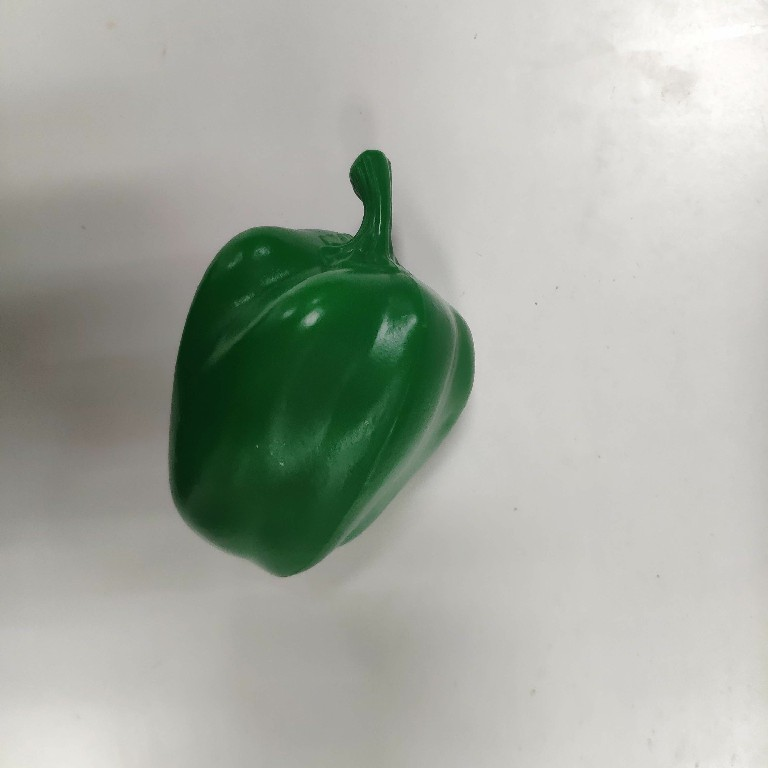fruit_pepper: (161, 144, 484, 586)
